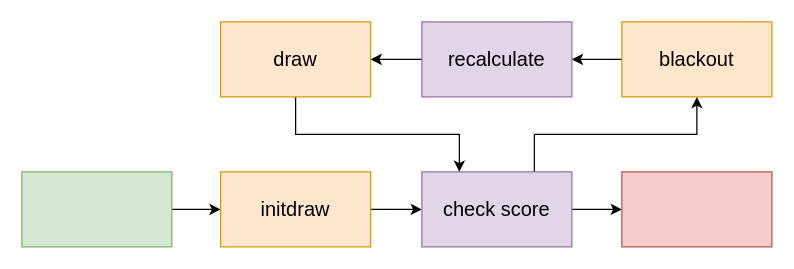
The diagram is 794 pixels wide and 269 high, and some of its shapes have lost their labels. The shapes that lost their labels are listed below. From the top down, each one's centre as x and y in pixels, then its label:
At (x=96, y=209): "start".
At (x=696, y=209): "end".
